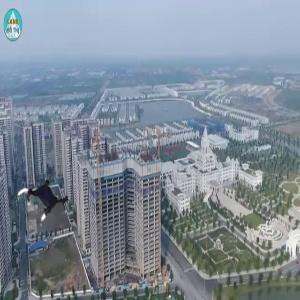drone: (16, 172, 75, 231)
